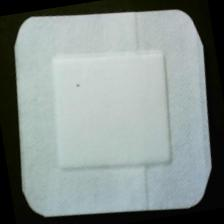Dressing: (1, 1, 224, 224)
F_Body: (65, 78, 89, 99)
